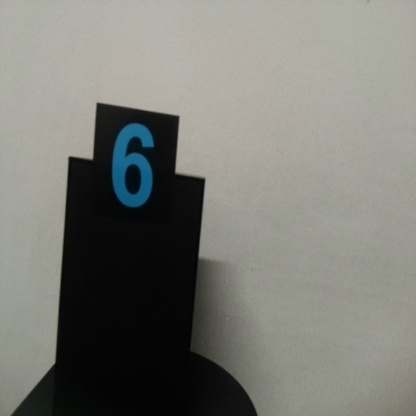id_6: (95, 105, 177, 245)
